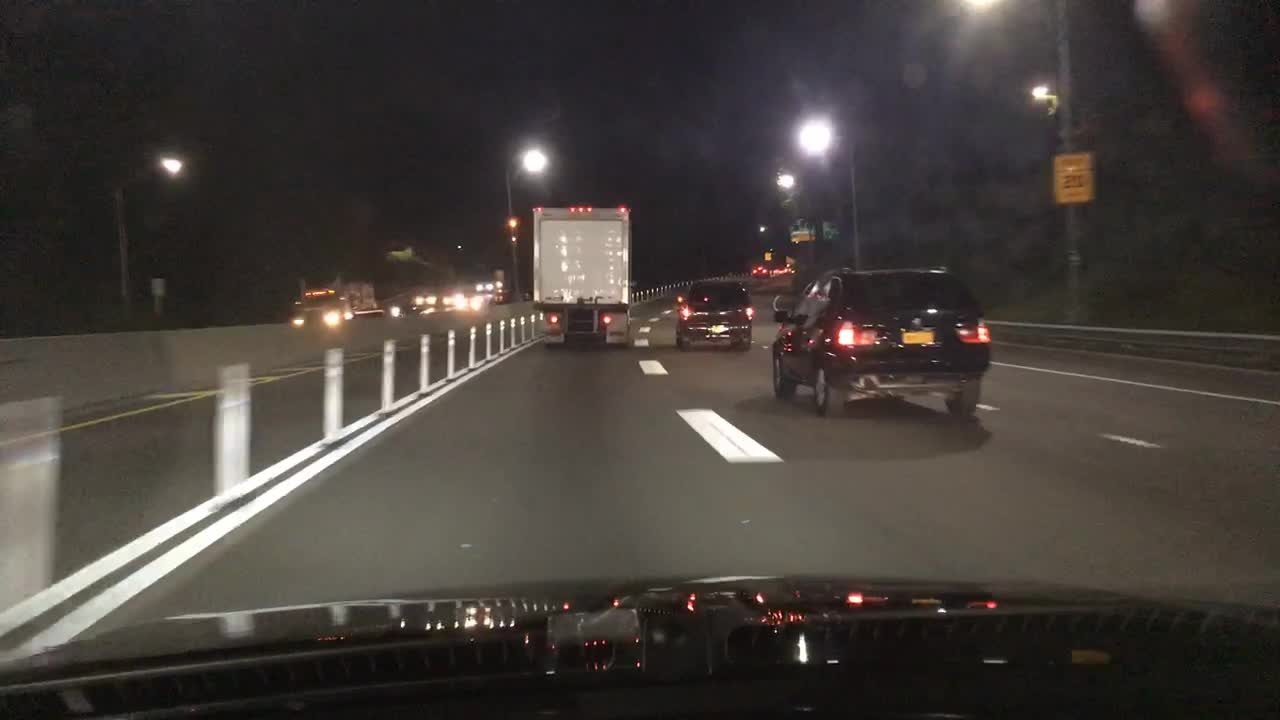car: (773, 265, 992, 415), (675, 280, 755, 350), (454, 292, 493, 309), (389, 301, 436, 315), (411, 289, 439, 306), (491, 290, 511, 305), (751, 264, 769, 278), (475, 280, 493, 291), (440, 294, 456, 306), (772, 267, 783, 277), (784, 266, 795, 276)
traffic sign: (1054, 152, 1096, 202), (789, 224, 815, 242), (822, 223, 841, 240), (764, 251, 772, 259)
truck: (531, 206, 634, 348), (291, 273, 379, 326)
